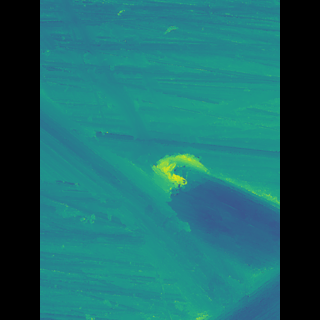Loch: (69, 93, 250, 319), (148, 145, 198, 206)
